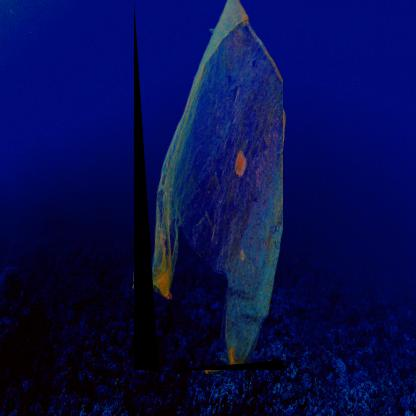plastic-bag: (134, 0, 284, 371)
